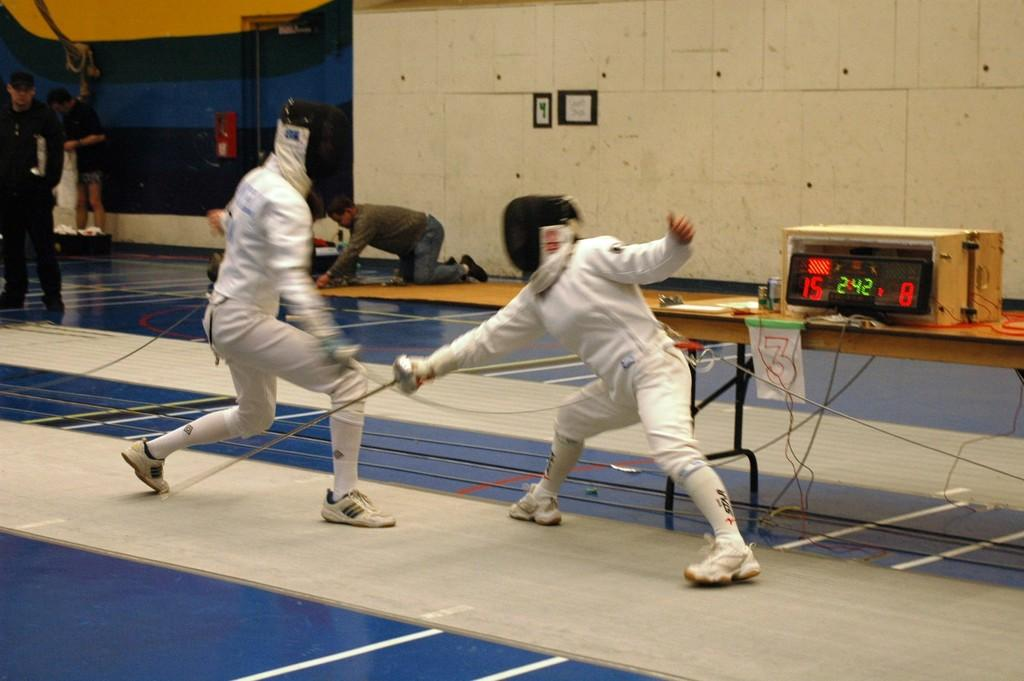knife: (162, 349, 435, 503), (332, 346, 605, 415)
non-violence: (323, 198, 486, 293), (1, 71, 63, 319), (48, 87, 105, 240)
violence: (125, 98, 764, 584)
